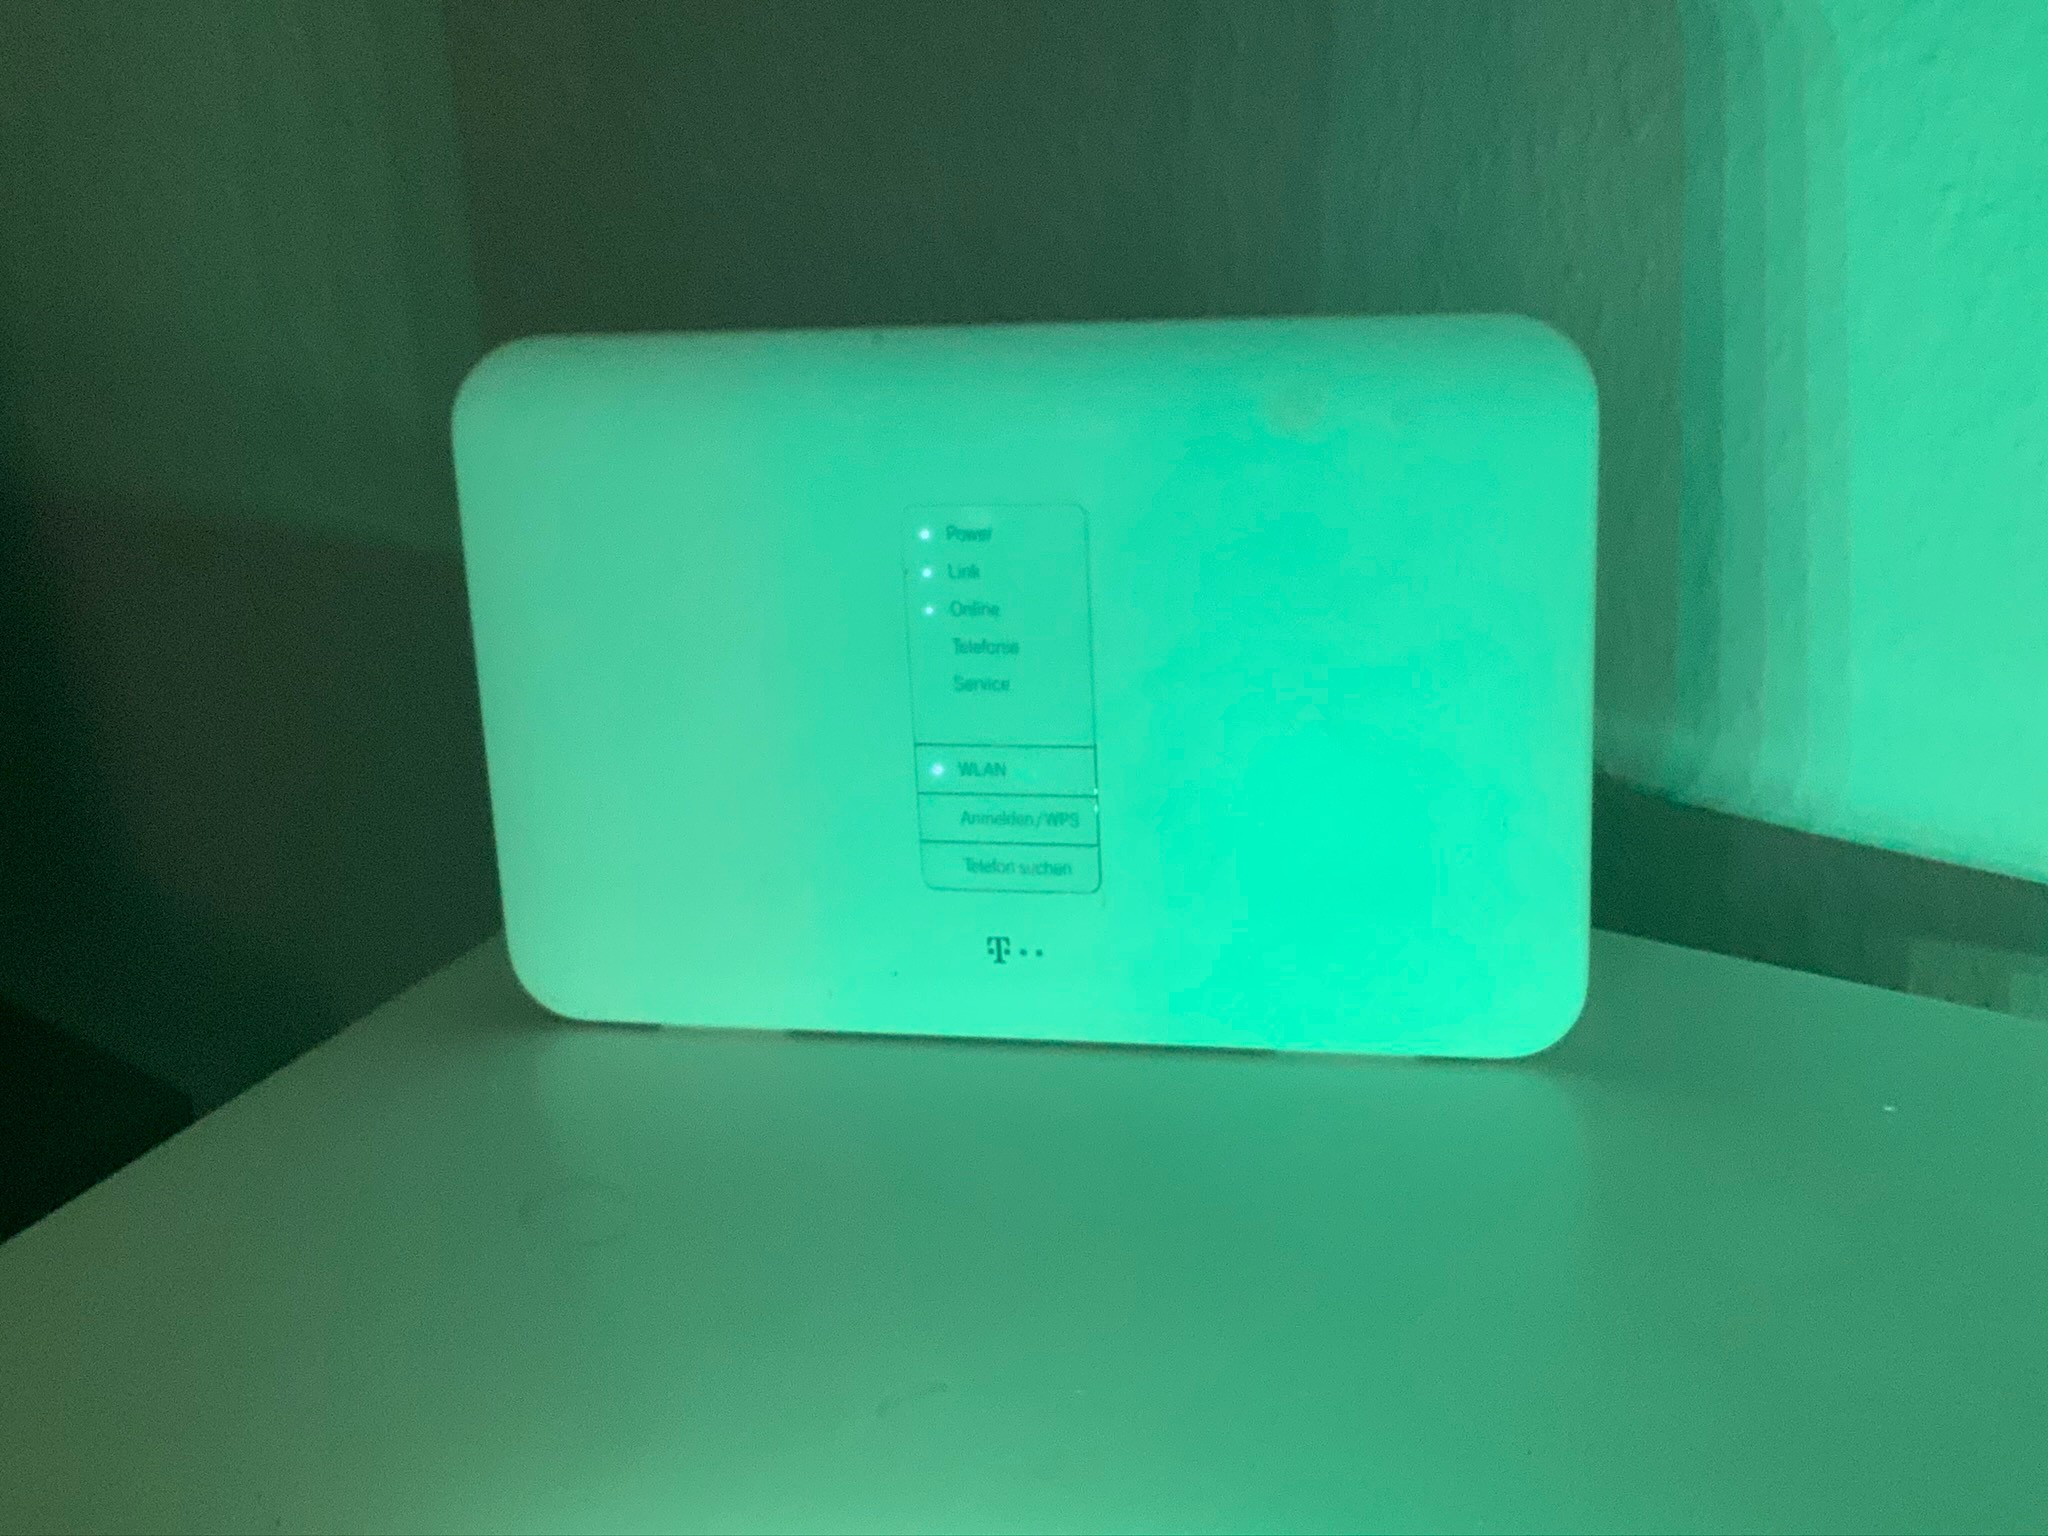router: (443, 310, 1608, 1062)
